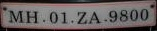character: (9, 9, 23, 24), (25, 9, 38, 24), (88, 10, 100, 24), (76, 10, 86, 25), (49, 10, 58, 24), (108, 9, 117, 23), (140, 7, 149, 21), (119, 9, 128, 22), (129, 8, 138, 21), (59, 11, 67, 24)
